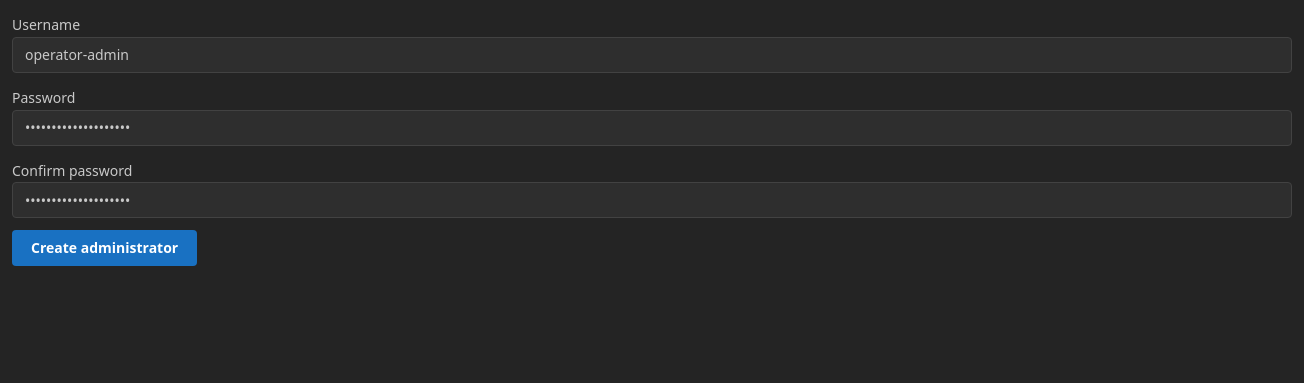
Scenario: any other failure renders in place › a backend error envelope shows the general inline alert and keeps the form usable — DoD-7
The image size is (1304, 383).
Click the submit button at (105, 248), box [12,230,197,266]
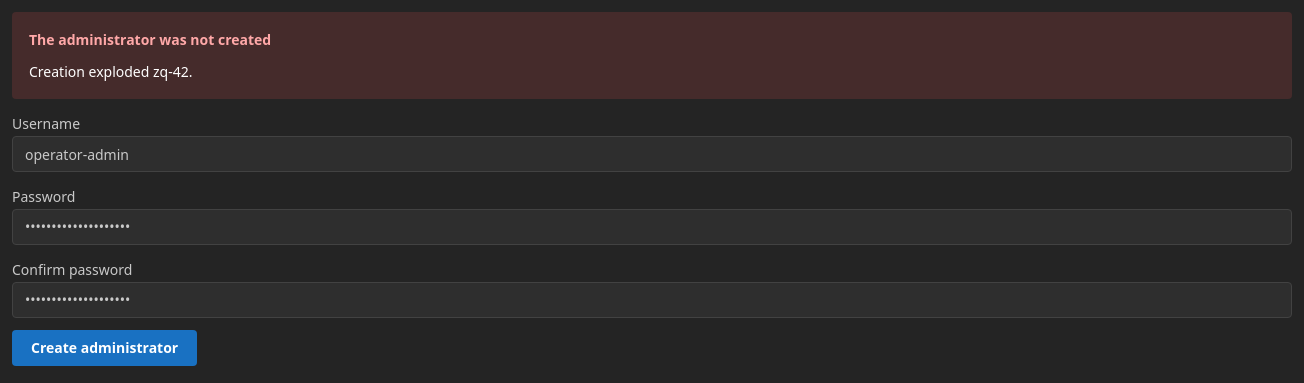
Expected: the field labelled "Username" holds "operator-admin", [12,136,1292,172]
Result: the message "The administrator was not created Creation exploded zq-42." is shown at [12,12,1292,99]
